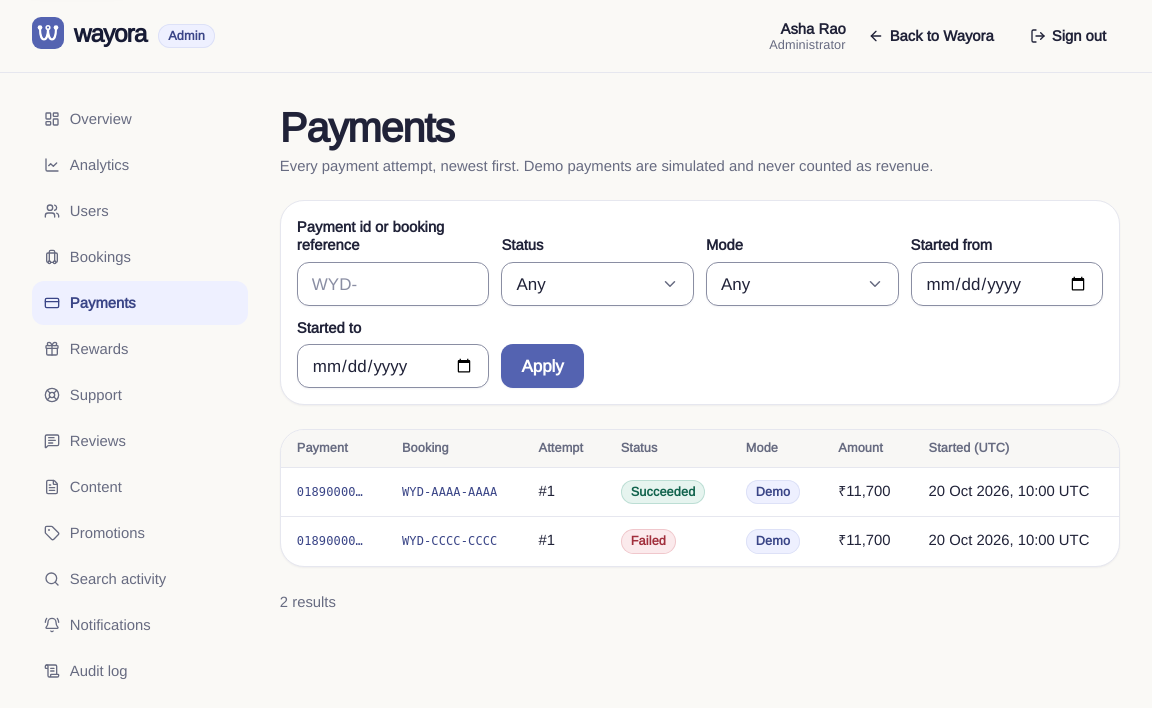
admin pages › payments: status and mode filters; demo attempts are labelled
This screenshot has width=1152, height=708.
Expected: the number of rows is 3, [281, 430, 1119, 467]; [281, 468, 1119, 517]; [281, 517, 1119, 566]
Select "Failed" in the dropdown labelled "Status" at point(598, 284), box [502, 263, 693, 305]
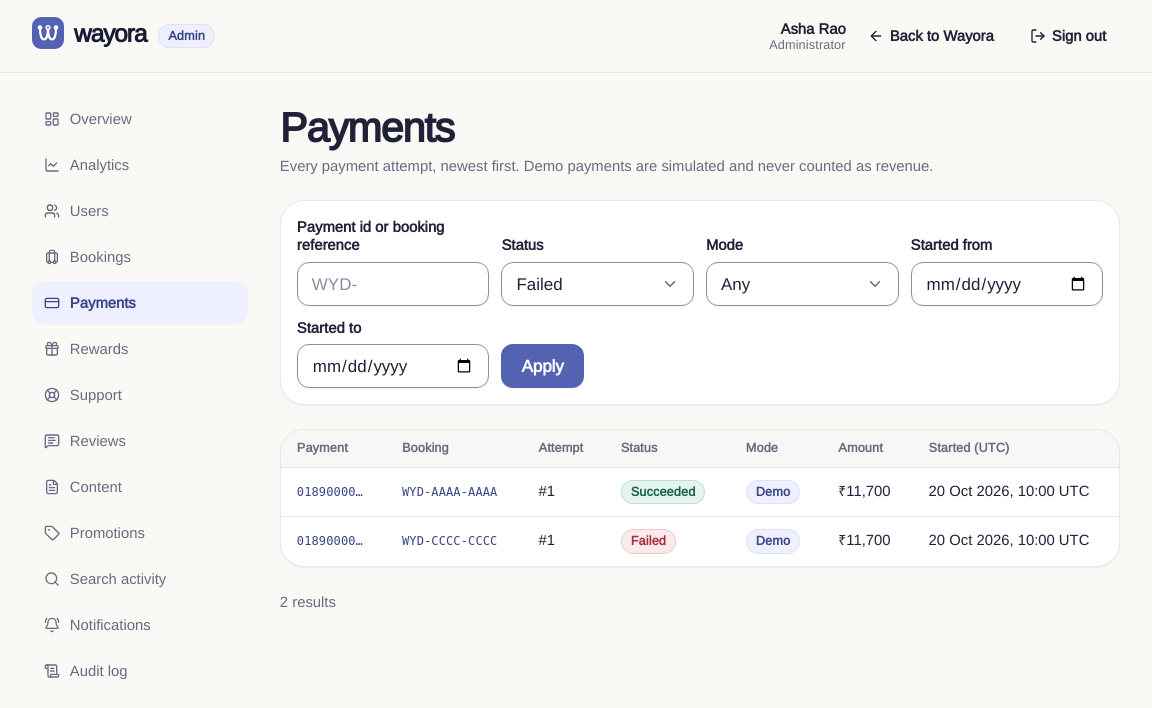
Select "Demo" in the dropdown labelled "Mode" at point(802, 284), box [707, 263, 898, 305]
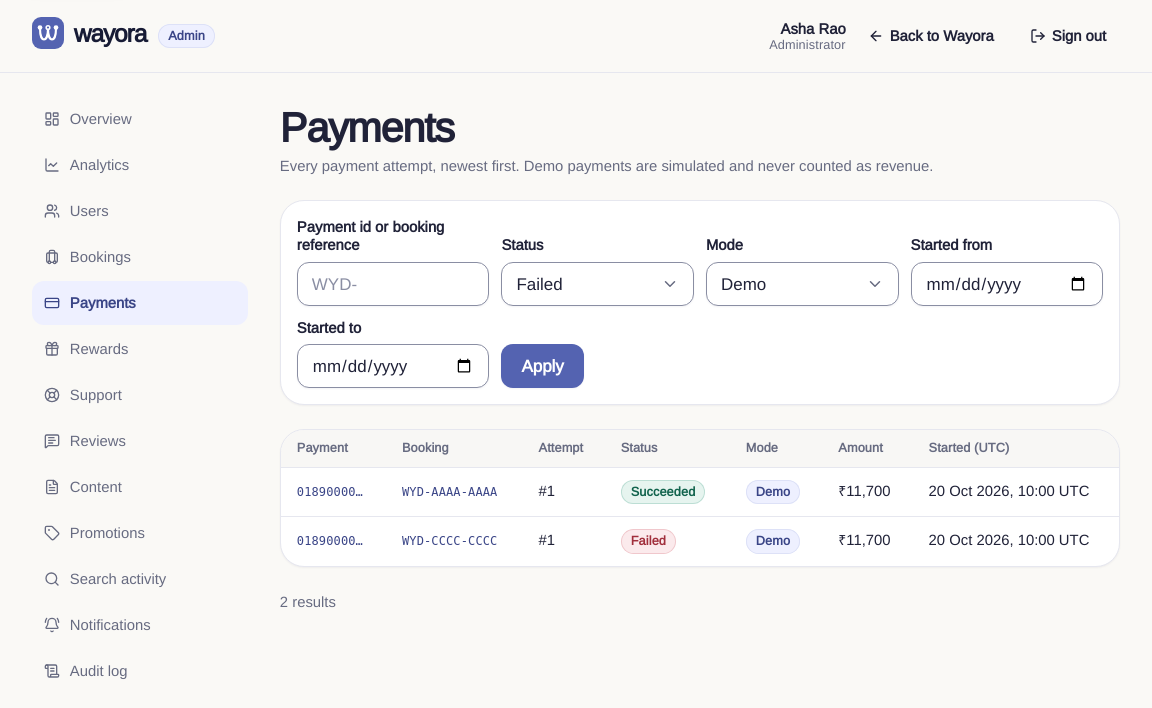
Click the button "Apply".
click(543, 366)  # box [501, 344, 584, 388]
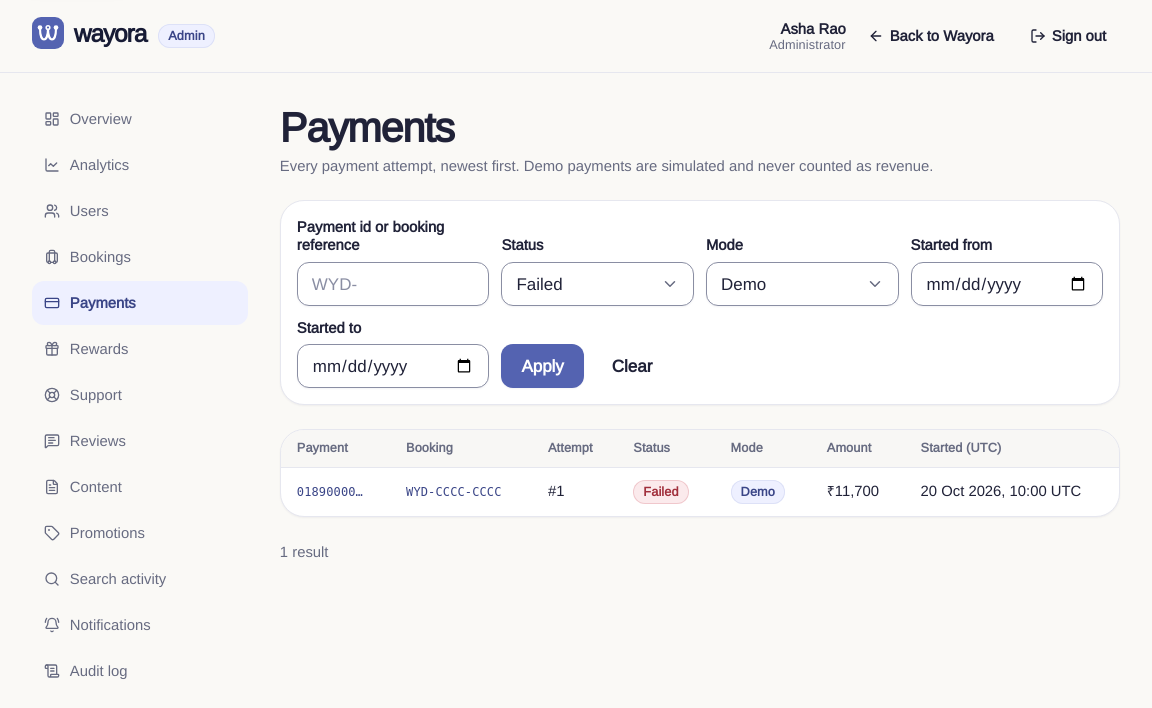
Expected: the number of rows is 2, [281, 430, 1119, 467]; [281, 468, 1119, 516]
Expected: the text "Failed" is shown, [633, 480, 689, 504]
Select "Live" in the dropdown labelled "Mode" at point(802, 284), box [707, 263, 898, 305]
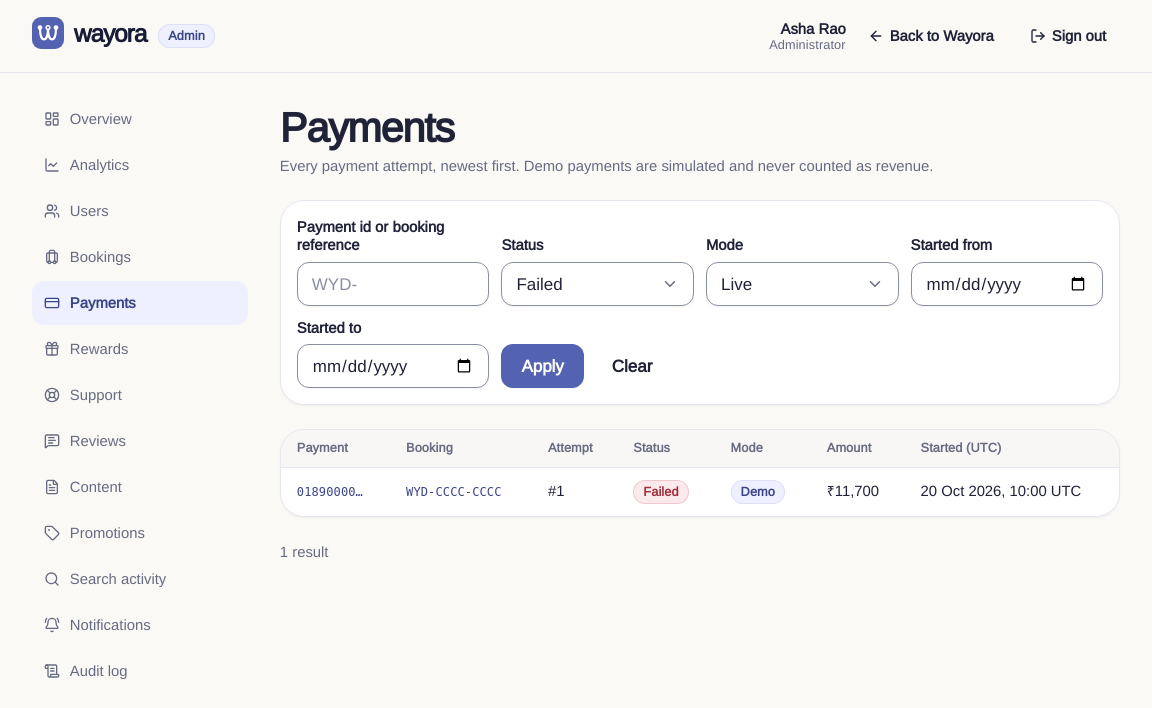
Click the button "Apply".
click(543, 366)  # box [501, 344, 584, 388]
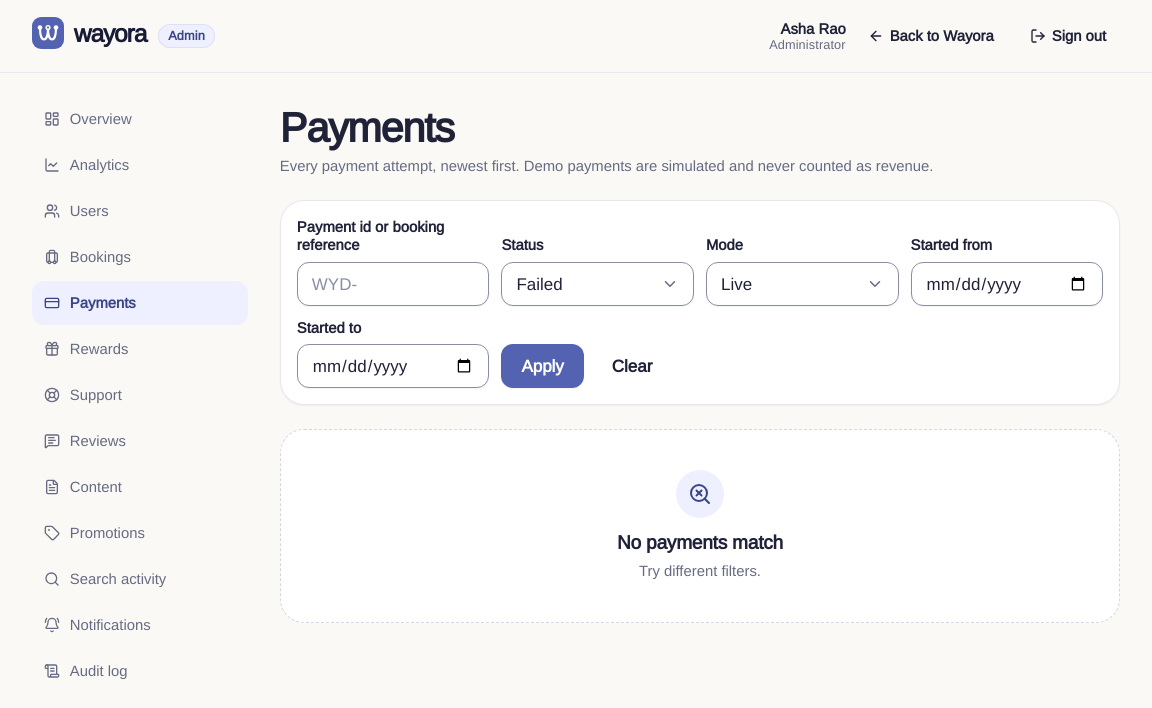
Expected: the text "No payments match" is shown, [617, 530, 783, 554]
